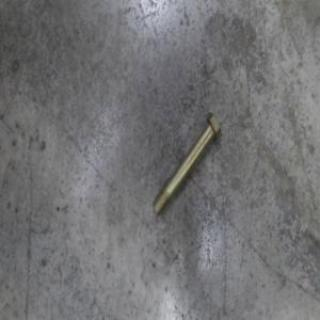Bolttrack_idkeyframe: (150, 108, 220, 216)
